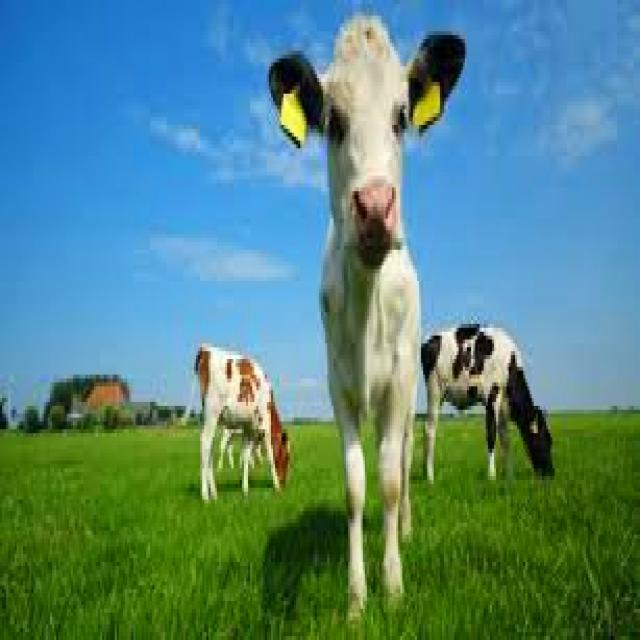cow: (269, 16, 463, 617), (421, 324, 552, 480), (194, 343, 288, 496)
